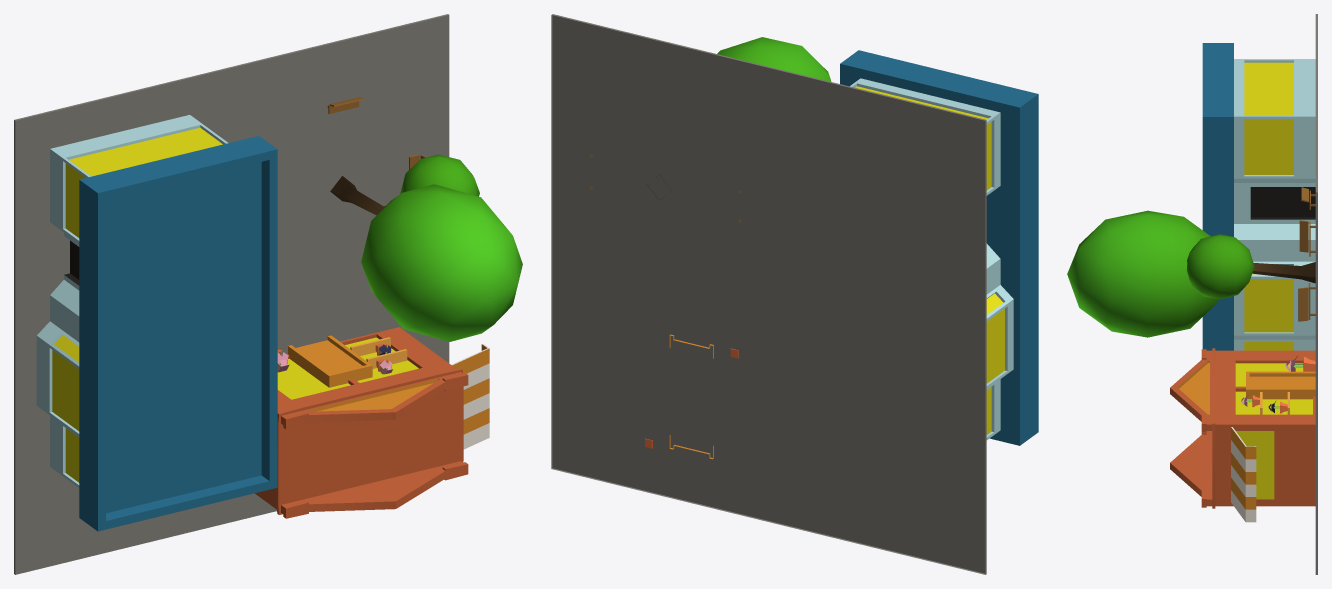
File: FloristAndBakery_04.fbx
The picture shows the model from 3 angles, left to right: view 1: azimuth 30°, elevation 25°; view 2: azimuth 150°, elevation 25°; view 3: azimuth 270°, elevation 25°; orthographic projection. The views are drawn at different scales.
Visible parts, largest first — view 1: FloristAndBakery_04; view 2: FloristAndBakery_04; view 3: FloristAndBakery_04.
Boxes of the visible parts, x1,y1,x2,y2 form: FloristAndBakery_04: (14,14,522,574); FloristAndBakery_04: (551,14,1038,574); FloristAndBakery_04: (1067,14,1317,574).
Size of the model in its own units: 200 by 200 by 119.
